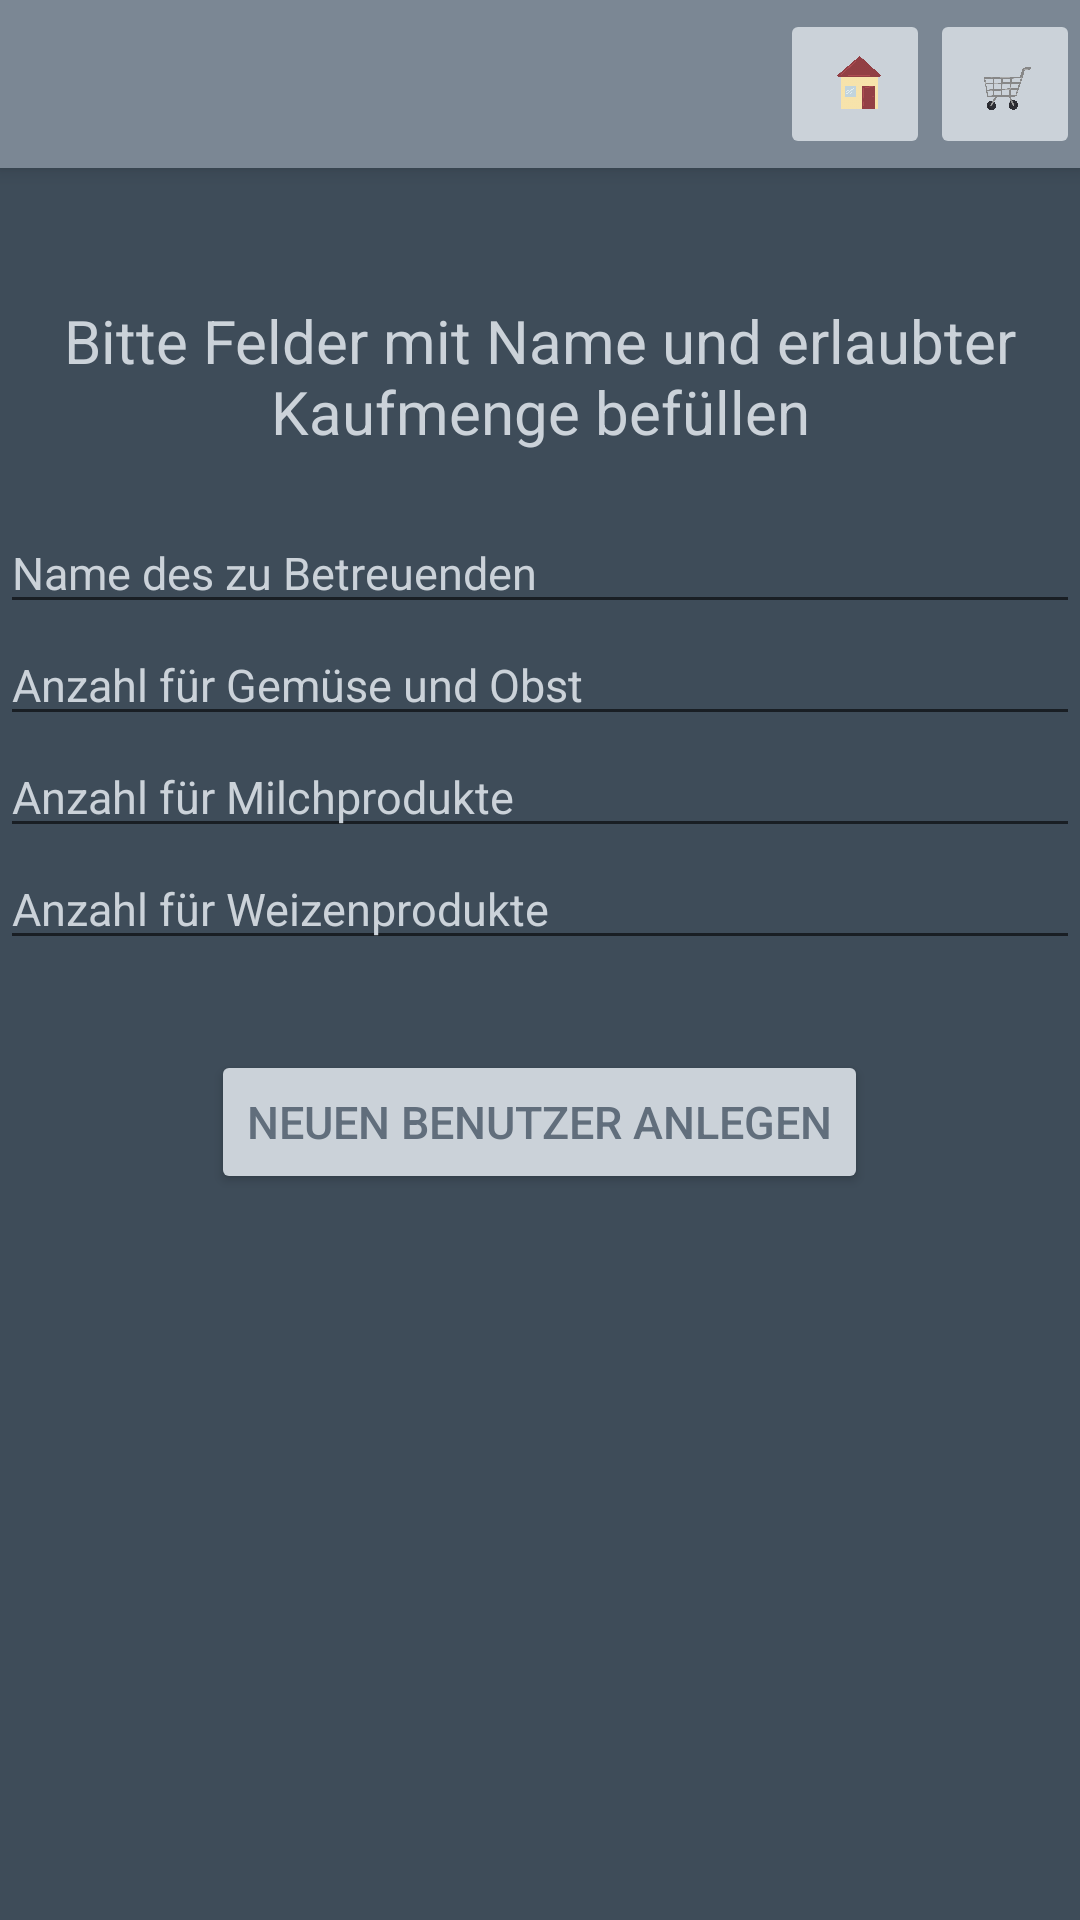

Screen size 1080 x 1920. Icon name, then its box in pixels as [left=x1, top=y1, right=x2, bottom=y2]:
home: [left=792, top=27, right=918, bottom=141]
warenkorb: [left=942, top=27, right=1068, bottom=141]
